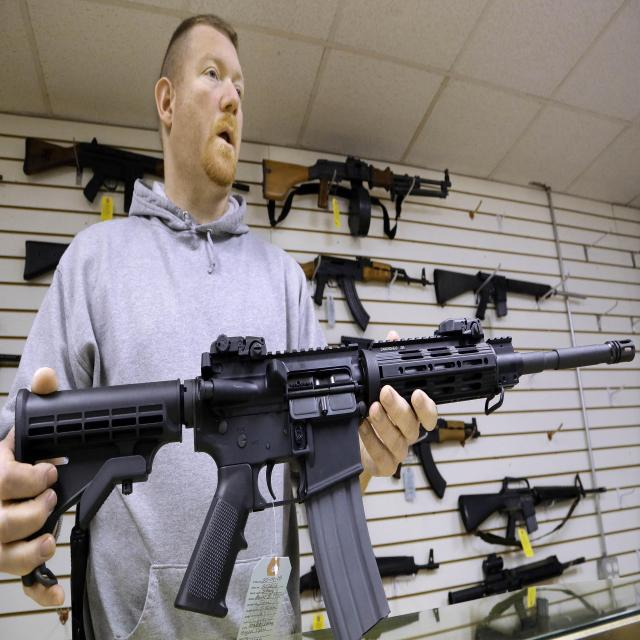weapon: (20, 299, 640, 634), (259, 121, 463, 238), (22, 116, 185, 224), (280, 521, 442, 608), (285, 246, 434, 338), (421, 246, 577, 327), (438, 542, 598, 608), (450, 468, 606, 532)
